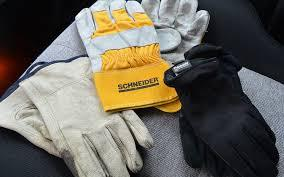gloves: (165, 57, 280, 177)
